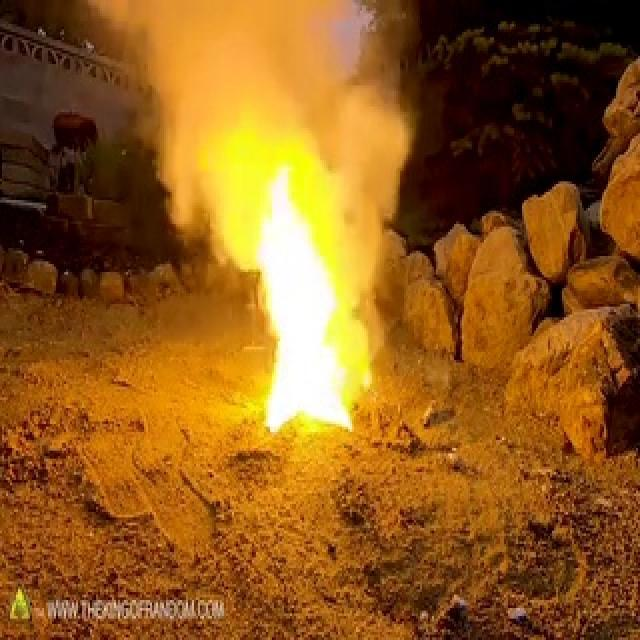Fire: (215, 132, 363, 442)
